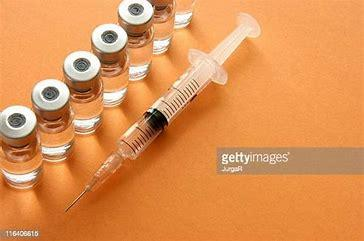Syringe: (0, 99, 45, 194), (86, 21, 132, 112)
